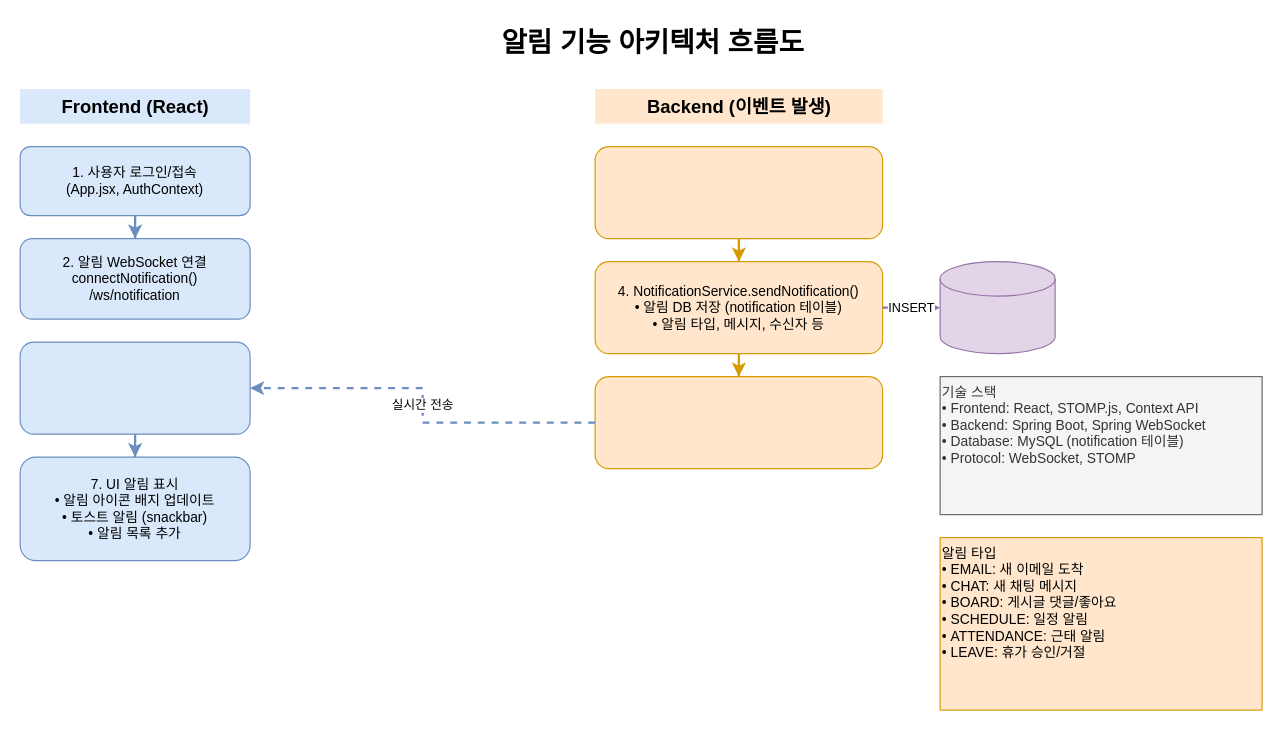
Image size: 1282x730. Some labels were removed from this diagram. The centre of each missing label's shape, as x and y in pixels:
"3. 알림 이벤트 발생 • 새 이메일 도착 • 새 채팅 메시지 • 게시글 댓글 등" goes at pixel 738 192.
"5. WebSocket으로 알림 전송 WebSocketDeliveryService /topic/notification/{userId}" goes at pixel 738 422.
"6. 프론트엔드 알림 수신 onMessage 콜백 NotificationContext 업데이트" goes at pixel 134 387.
"MySQL notification 테이블" goes at pixel 997 307.
